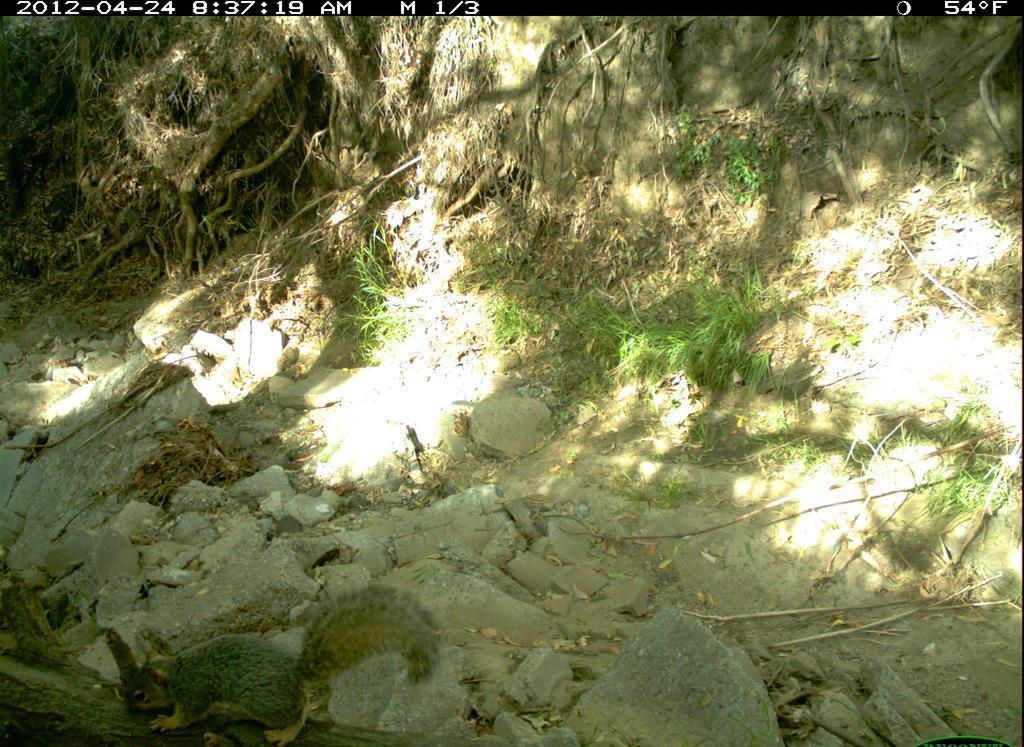squirrel: (116, 583, 449, 747)
